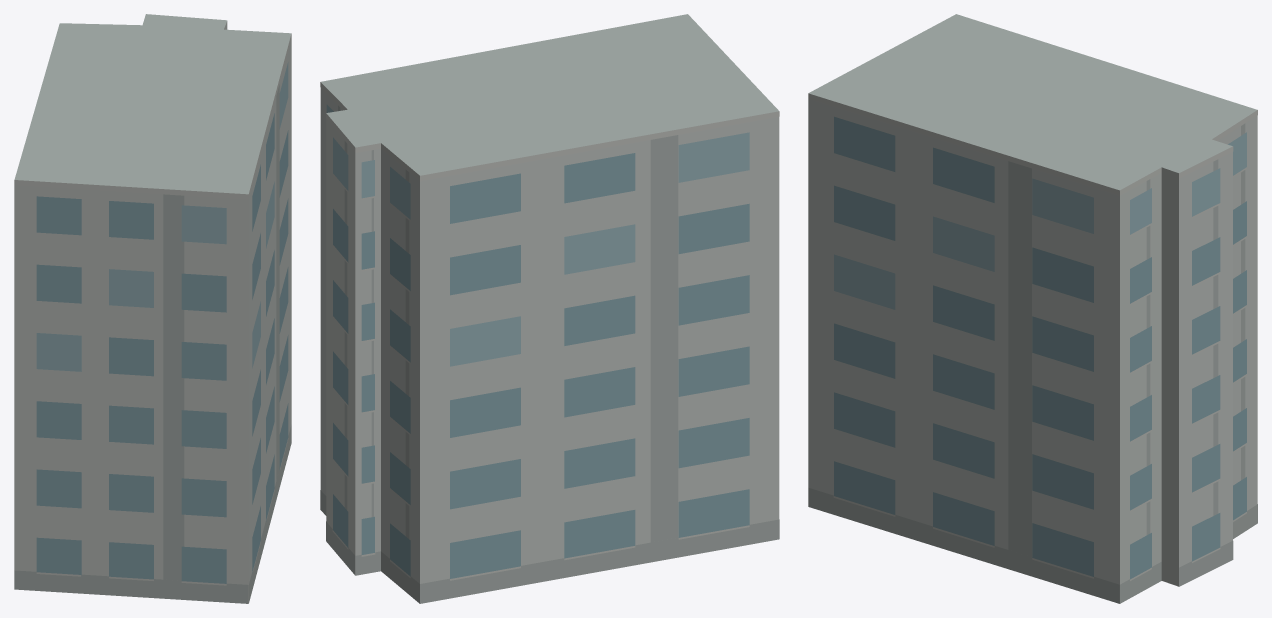
File: survey-upis-32879803.glb
3 views of the same model, side by side, from view 1: azimuth 30°, elevation 25°; view 2: azimuth 150°, elevation 25°; view 3: azimuth 270°, elevation 25° (orthographic). The views are drawn at different scales.
Parts seen in each view (by area): view 1: survey-upis-32879803.tmp; view 2: survey-upis-32879803.tmp; view 3: survey-upis-32879803.tmp.
Part boxes in pixels (x1,y1,x2,y2): survey-upis-32879803.tmp: (14,14,291,603); survey-upis-32879803.tmp: (320,14,779,603); survey-upis-32879803.tmp: (808,14,1257,603).
Size of the model in its own units: 17.12 by 18.7 by 18.43.
